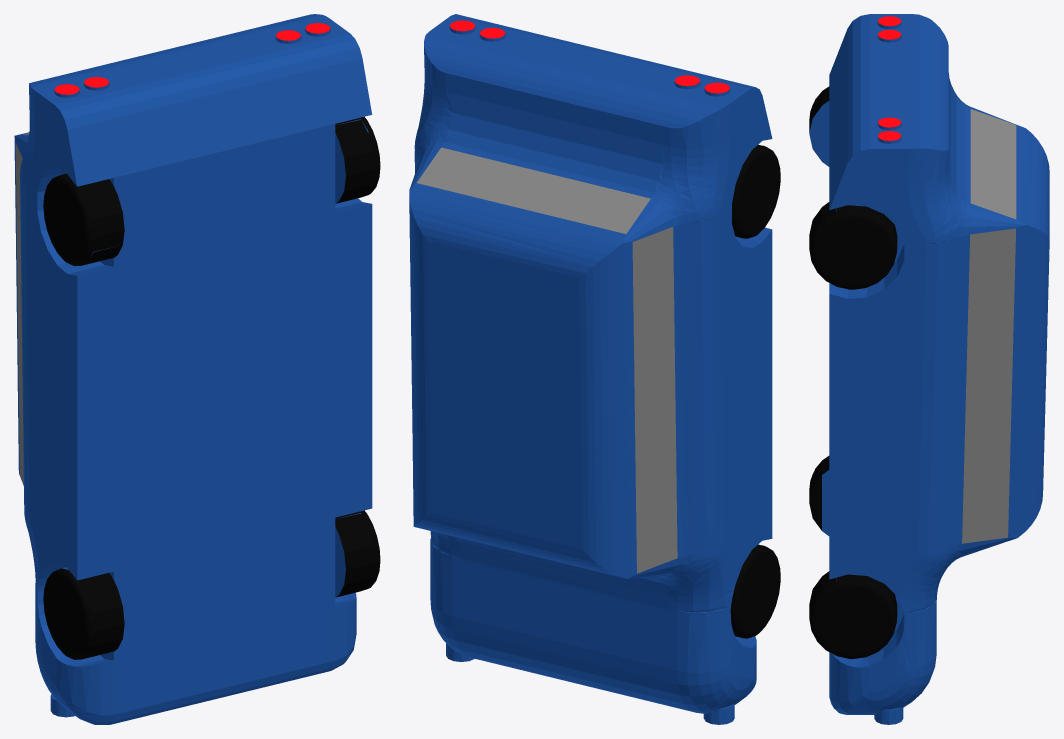
The model's file is roscar_auto_v1.dae.
3 renders of one model, left to right at view 1: azimuth 30°, elevation 25°; view 2: azimuth 150°, elevation 25°; view 3: azimuth 270°, elevation 25°, orthographic. The views are drawn at different scales.
Parts seen in each view (by area): view 1: Roscar Auto V1; view 2: Roscar Auto V1; view 3: Roscar Auto V1.
Boxes of the visible parts, x1,y1,x2,y2 form: Roscar Auto V1: [14, 14, 380, 724]; Roscar Auto V1: [409, 14, 780, 724]; Roscar Auto V1: [809, 14, 1049, 724].
Size of the model in its own units: 0.2 by 0.1504 by 0.402.
